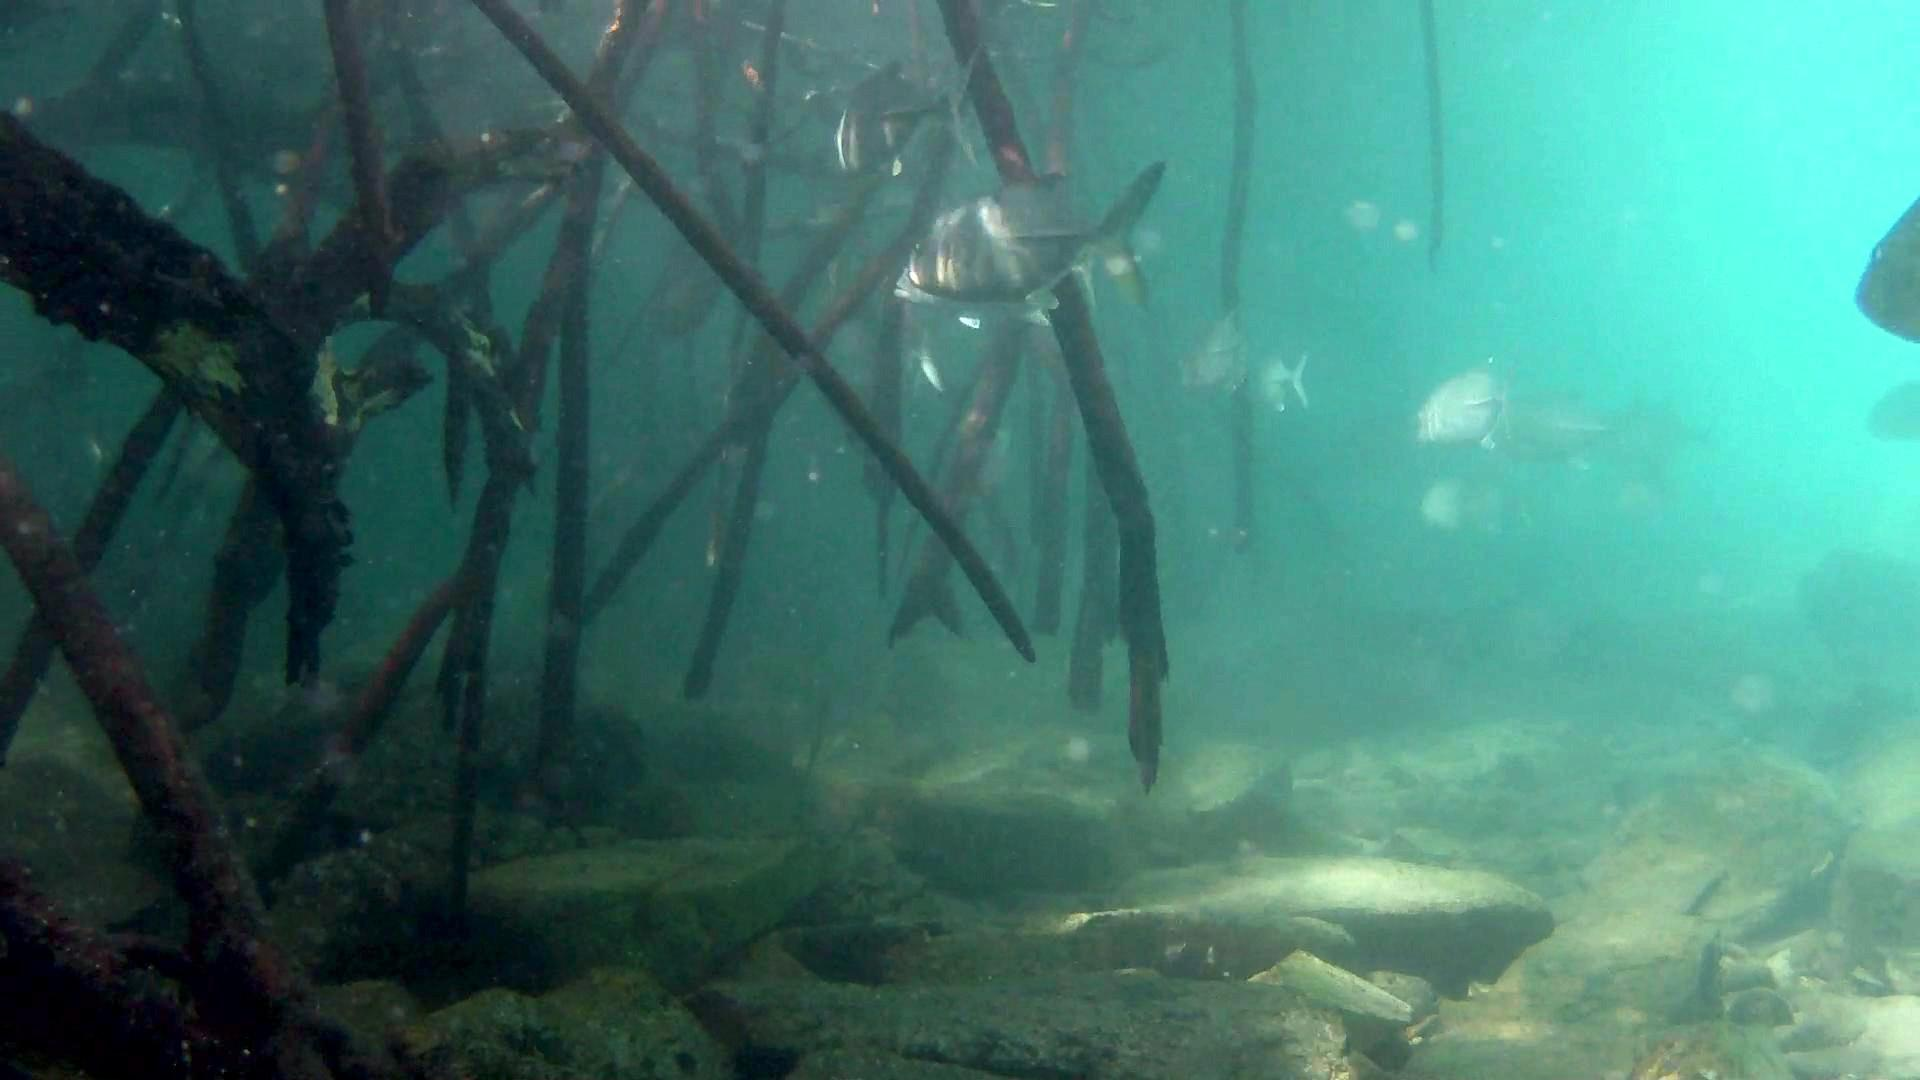caranx: (884, 148, 1180, 340)
